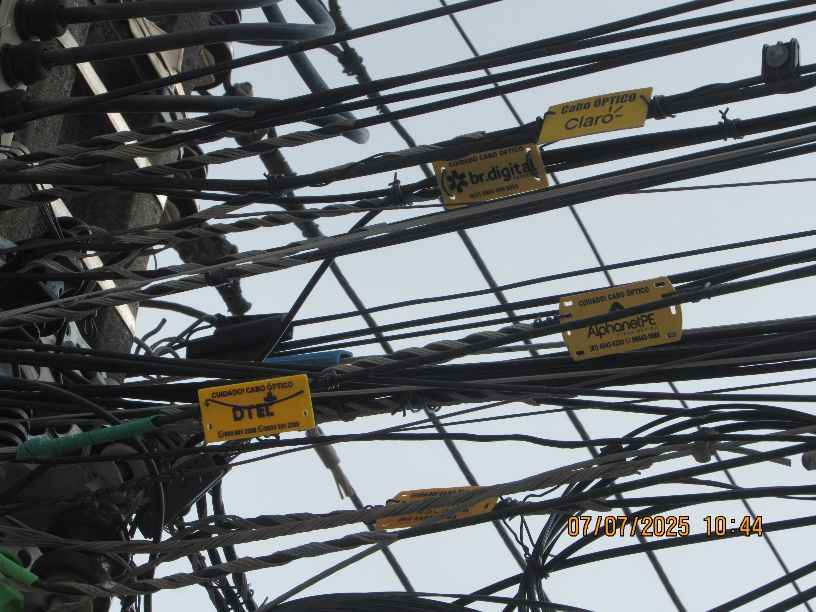fibra_optica: (80, 324, 486, 468), (208, 154, 651, 240), (332, 70, 740, 155), (503, 260, 779, 371), (111, 482, 645, 539)
